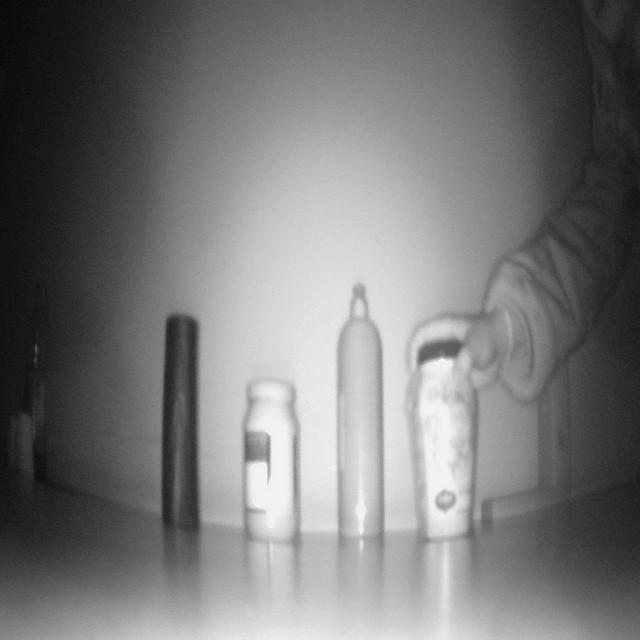targets: (482, 349, 575, 517), (408, 344, 478, 541), (334, 287, 387, 544), (243, 378, 302, 540), (160, 316, 204, 530), (24, 273, 54, 476), (6, 410, 34, 474)
